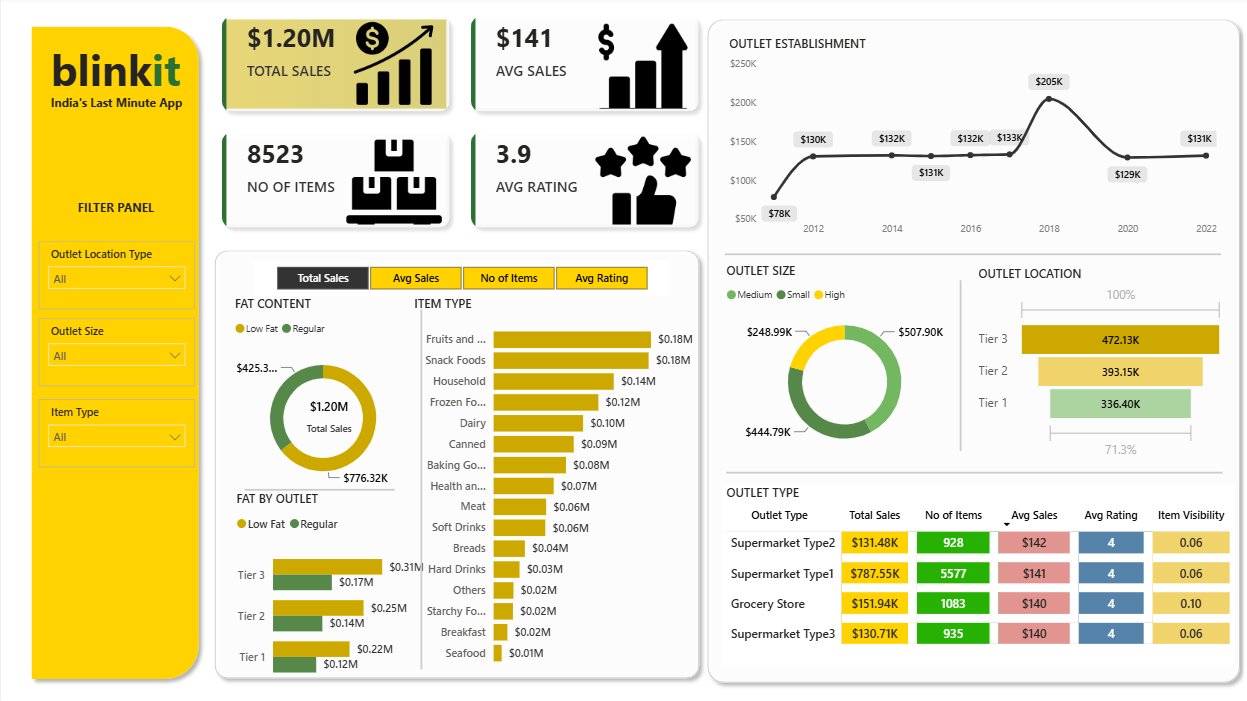

The page's visual inventory and layout, read from the dashboard file:
{"tool":"powerbi","page":{"name":"Page 1","canvas":[1400,800],"ordinal":0},"visuals":[{"type":"shape","box":[25.5,25.5,205.6,749.8],"z":0},{"type":"textbox","box":[37.7,44,182.1,76.9],"z":1000},{"type":"textbox","box":[45.5,105.2,168,29.8],"z":2000},{"type":"cardVisual","fields":{"Data":["BlinkIT Grocery Data.Total Sales","BlinkIT Grocery Data.Avg Sales","BlinkIT Grocery Data.No of Items","BlinkIT Grocery Data.Avg Rating"]},"box":[230.8,6.3,569.9,270],"z":3000},{"type":"shape","box":[231.1,276.7,561.1,497.8],"z":4000},{"type":"donutChart","title":"FAT CONTENT","fields":{"Y":["BlinkIT Grocery Data.Total Sales"],"Category":["BlinkIT Grocery Data.Item Fat Content"]},"box":[257.5,335.8,207.5,230.8],"z":5000},{"type":"slicer","fields":{"Values":["Metrics.Metrics"]},"box":[284.1,296.7,464.7,39.2],"z":6000},{"type":"cardVisual","fields":{"Data":["BlinkIT Grocery Data.Total Sales"]},"box":[323.4,434.9,89.5,72.2],"z":7000},{"type":"clusteredBarChart","title":"FAT BY OUTLET","fields":{"Y":["BlinkIT Grocery Data.Total Sales"],"Category":["BlinkIT Grocery Data.Outlet Location Type"],"Series":["BlinkIT Grocery Data.Item Fat Content"]},"box":[258.3,554.2,220,230],"z":8000},{"type":"shape","box":[273.3,548.3,168.3,11.7],"z":9000},{"type":"shape","box":[465,351.7,13.3,403.3],"z":10000},{"type":"barChart","title":"ITEM TYPE","fields":{"Y":["BlinkIT Grocery Data.Total Sales"],"Category":["BlinkIT Grocery Data.Item Type"]},"box":[457.8,335.2,322.2,424.8],"z":11000},{"type":"shape","box":[783.3,16.7,615,761.7],"z":12000},{"type":"lineChart","title":"OUTLET ESTABLISHMENT","fields":{"Y":["BlinkIT Grocery Data.Total Sales"],"Category":["BlinkIT Grocery Data.Outlet Establishment Year"]},"box":[811.7,43.3,556.7,235],"z":13000},{"type":"shape","box":[811.7,276.7,556.7,26.7],"z":14000},{"type":"donutChart","title":"OUTLET SIZE","fields":{"Y":["BlinkIT Grocery Data.Total Sales"],"Category":["BlinkIT Grocery Data.Outlet Size"]},"box":[808.3,298.3,275,225],"z":15000},{"type":"shape","box":[1065,318.3,23.3,191.7],"z":16000},{"type":"funnel","title":"OUTLET LOCATION","fields":{"Y":["Sum(BlinkIT Grocery Data.Sales)"],"Category":["BlinkIT Grocery Data.Outlet Location Type"]},"box":[1091.7,301.7,285,221.7],"z":17000},{"type":"shape","box":[813.3,521.7,556.7,26.7],"z":18000},{"type":"pivotTable","title":"OUTLET TYPE","fields":{"Rows":["BlinkIT Grocery Data.Outlet Type"],"Values":["BlinkIT Grocery Data.Total Sales","BlinkIT Grocery Data.No of Items","BlinkIT Grocery Data.Avg Sales","BlinkIT Grocery Data.Avg Rating","Avg(BlinkIT Grocery Data.Item Visibility)"]},"box":[808.3,548.3,575,203.3],"z":19000},{"type":"slicer","fields":{"Values":["BlinkIT Grocery Data.Outlet Location Type"]},"box":[41.7,275,175,76.7],"z":20000},{"type":"slicer","fields":{"Values":["BlinkIT Grocery Data.Outlet Size"]},"box":[41.7,361.7,175,76.7],"z":21000},{"type":"slicer","fields":{"Values":["BlinkIT Grocery Data.Item Type"]},"box":[41.7,451.7,175,76.7],"z":22000},{"type":"textbox","box":[45,223.3,166.7,30],"z":22001}]}

Visuals, with their boxes in screenshot pixels (x1, y1, x2, y2), scaled from the page's 1400x800 canvas onto the 1247x701 screenshot:
shape: box=[23, 22, 206, 679]
textbox: box=[34, 39, 196, 106]
textbox: box=[41, 92, 190, 118]
cardVisual - BlinkIT Grocery Data.Total Sales x BlinkIT Grocery Data.Avg Sales: box=[206, 6, 713, 242]
shape: box=[206, 242, 706, 679]
"FAT CONTENT" donutChart: box=[229, 294, 414, 496]
slicer - Metrics.Metrics: box=[253, 260, 667, 294]
cardVisual - BlinkIT Grocery Data.Total Sales: box=[288, 381, 368, 444]
"FAT BY OUTLET" clusteredBarChart: box=[230, 486, 426, 687]
shape: box=[243, 480, 393, 491]
shape: box=[414, 308, 426, 662]
"ITEM TYPE" barChart: box=[408, 294, 695, 666]
shape: box=[698, 15, 1245, 682]
"OUTLET ESTABLISHMENT" lineChart: box=[723, 38, 1219, 244]
shape: box=[723, 242, 1219, 266]
"OUTLET SIZE" donutChart: box=[720, 261, 965, 459]
shape: box=[949, 279, 969, 447]
"OUTLET LOCATION" funnel: box=[972, 264, 1226, 459]
shape: box=[724, 457, 1220, 481]
"OUTLET TYPE" pivotTable: box=[720, 480, 1232, 659]
slicer - BlinkIT Grocery Data.Outlet Location Type: box=[37, 241, 193, 308]
slicer - BlinkIT Grocery Data.Outlet Size: box=[37, 317, 193, 384]
slicer - BlinkIT Grocery Data.Item Type: box=[37, 396, 193, 463]
textbox: box=[40, 196, 189, 222]
